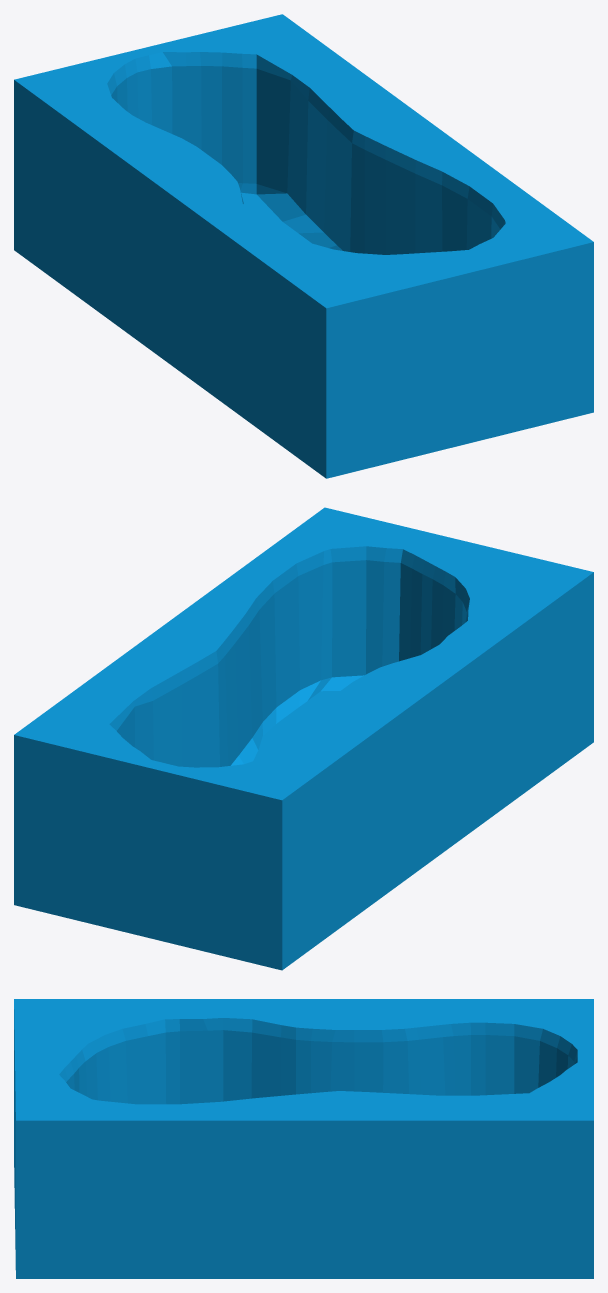
The model's file is pool.fbx.
3 renders of one model, top to bottom at view 1: azimuth 30°, elevation 25°; view 2: azimuth 150°, elevation 25°; view 3: azimuth 270°, elevation 25°, orthographic. The views are drawn at different scales.
Visible parts, largest first — view 1: Plane; view 2: Plane; view 3: Plane.
Boxes of the visible parts, x1,y1,x2,y2 form: Plane: [14, 14, 593, 478]; Plane: [14, 507, 593, 970]; Plane: [14, 999, 593, 1278].
Size of the model in its own units: 1979 by 1200 by 3986.
